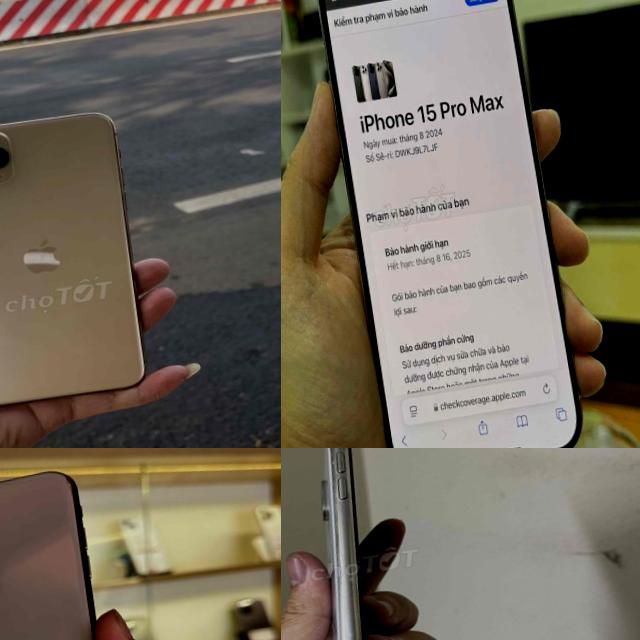gen_11: (0, 90, 170, 424)
gen_15: (302, 0, 593, 448)
gen_x_xs: (0, 461, 135, 640), (321, 448, 366, 640)
